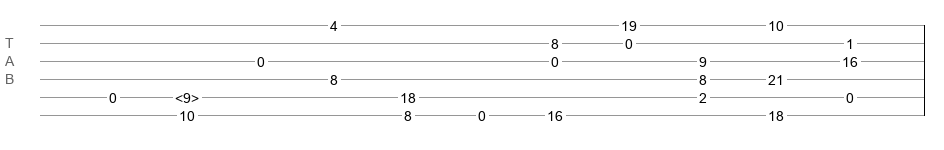0: (109, 90, 117, 100), (257, 54, 265, 64), (478, 108, 486, 118), (551, 54, 559, 64), (625, 36, 633, 46), (846, 90, 854, 100)
1: (846, 36, 854, 46)
10: (179, 108, 195, 118), (768, 18, 784, 28)
16: (547, 108, 563, 118), (842, 54, 858, 64)
18: (400, 90, 416, 100), (768, 108, 784, 118)
19: (621, 18, 637, 28)
2: (699, 90, 707, 100)
21: (768, 72, 784, 82)
4: (330, 18, 338, 28)
8: (330, 72, 338, 82), (404, 108, 412, 118), (551, 36, 559, 46), (699, 72, 707, 82)
9: (699, 54, 707, 64)
harmonic: (175, 90, 199, 100)
